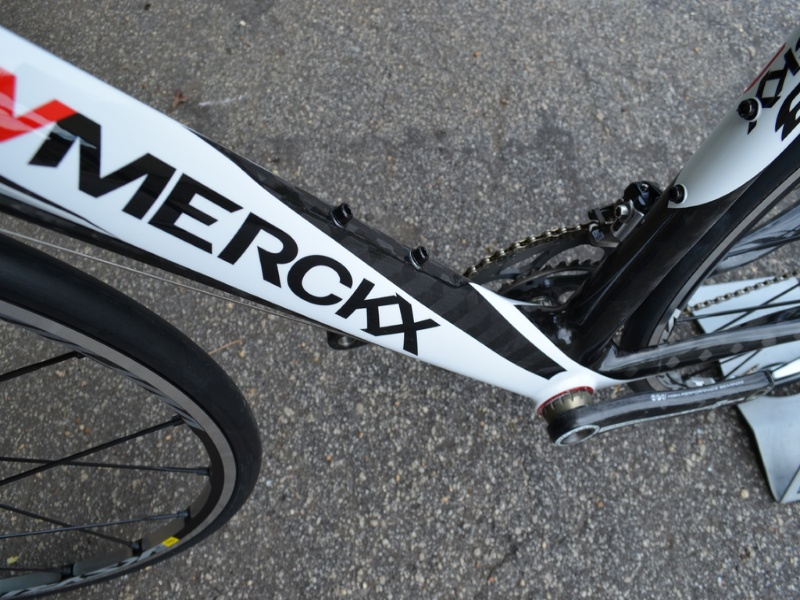bicycle: (2, 6, 799, 600)
